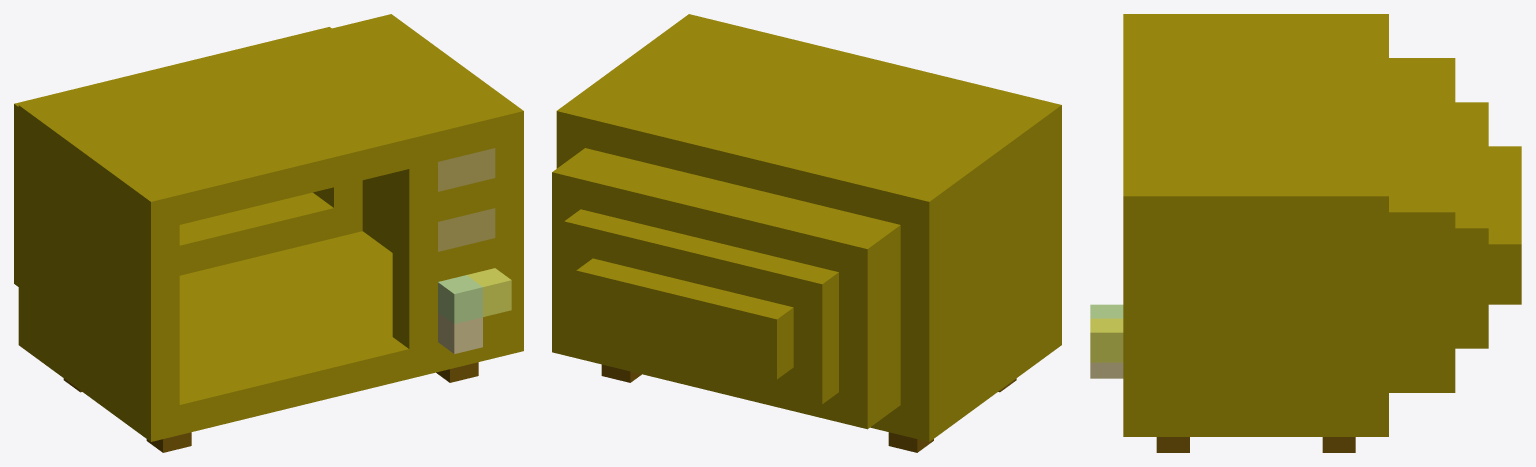
3 views of the same model, side by side, from view 1: azimuth 30°, elevation 25°; view 2: azimuth 150°, elevation 25°; view 3: azimuth 270°, elevation 25° (orthographic).
Size of the model in its own units: 13 by 9 by 13.
